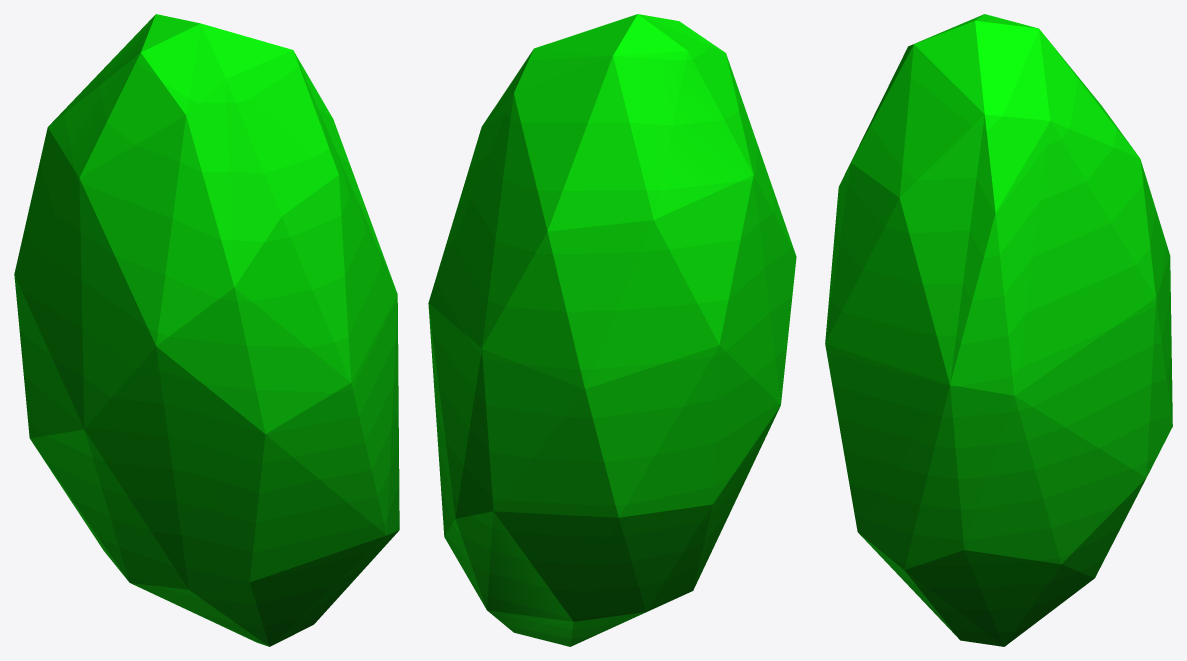
File: Prefab_Foliage_Tree_Birch_Leaves_H.glb
3 renders of one model, left to right at view 1: azimuth 30°, elevation 25°; view 2: azimuth 150°, elevation 25°; view 3: azimuth 270°, elevation 25°, orthographic. The views are drawn at different scales.
Visible parts, largest first — view 1: BirchTree_B_Trunk.002; view 2: BirchTree_B_Trunk.002; view 3: BirchTree_B_Trunk.002.
Part boxes in pixels (x1,y1,x2,y2): BirchTree_B_Trunk.002: (14,14,399,646); BirchTree_B_Trunk.002: (428,14,796,646); BirchTree_B_Trunk.002: (825,14,1172,646).
Bounding box in the file's own units: 2.78 × 5.3 × 2.84.
Materials: 1 (1 with a texture image).
